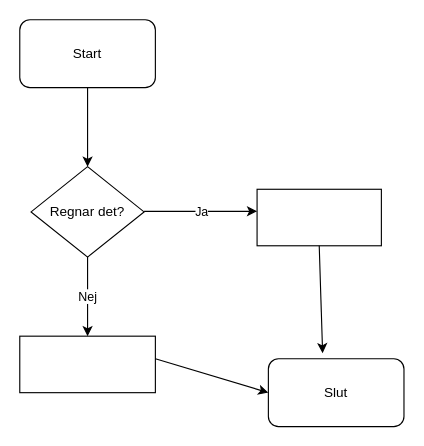
Some shapes in this 424 by 446 pixel diagram are drawn without their labels. Here are the shapes that lost their labels. From the top down, the centre of each, then its label:
the point at 318,217: Stanna hemma
the point at 87,364: Gå ut
